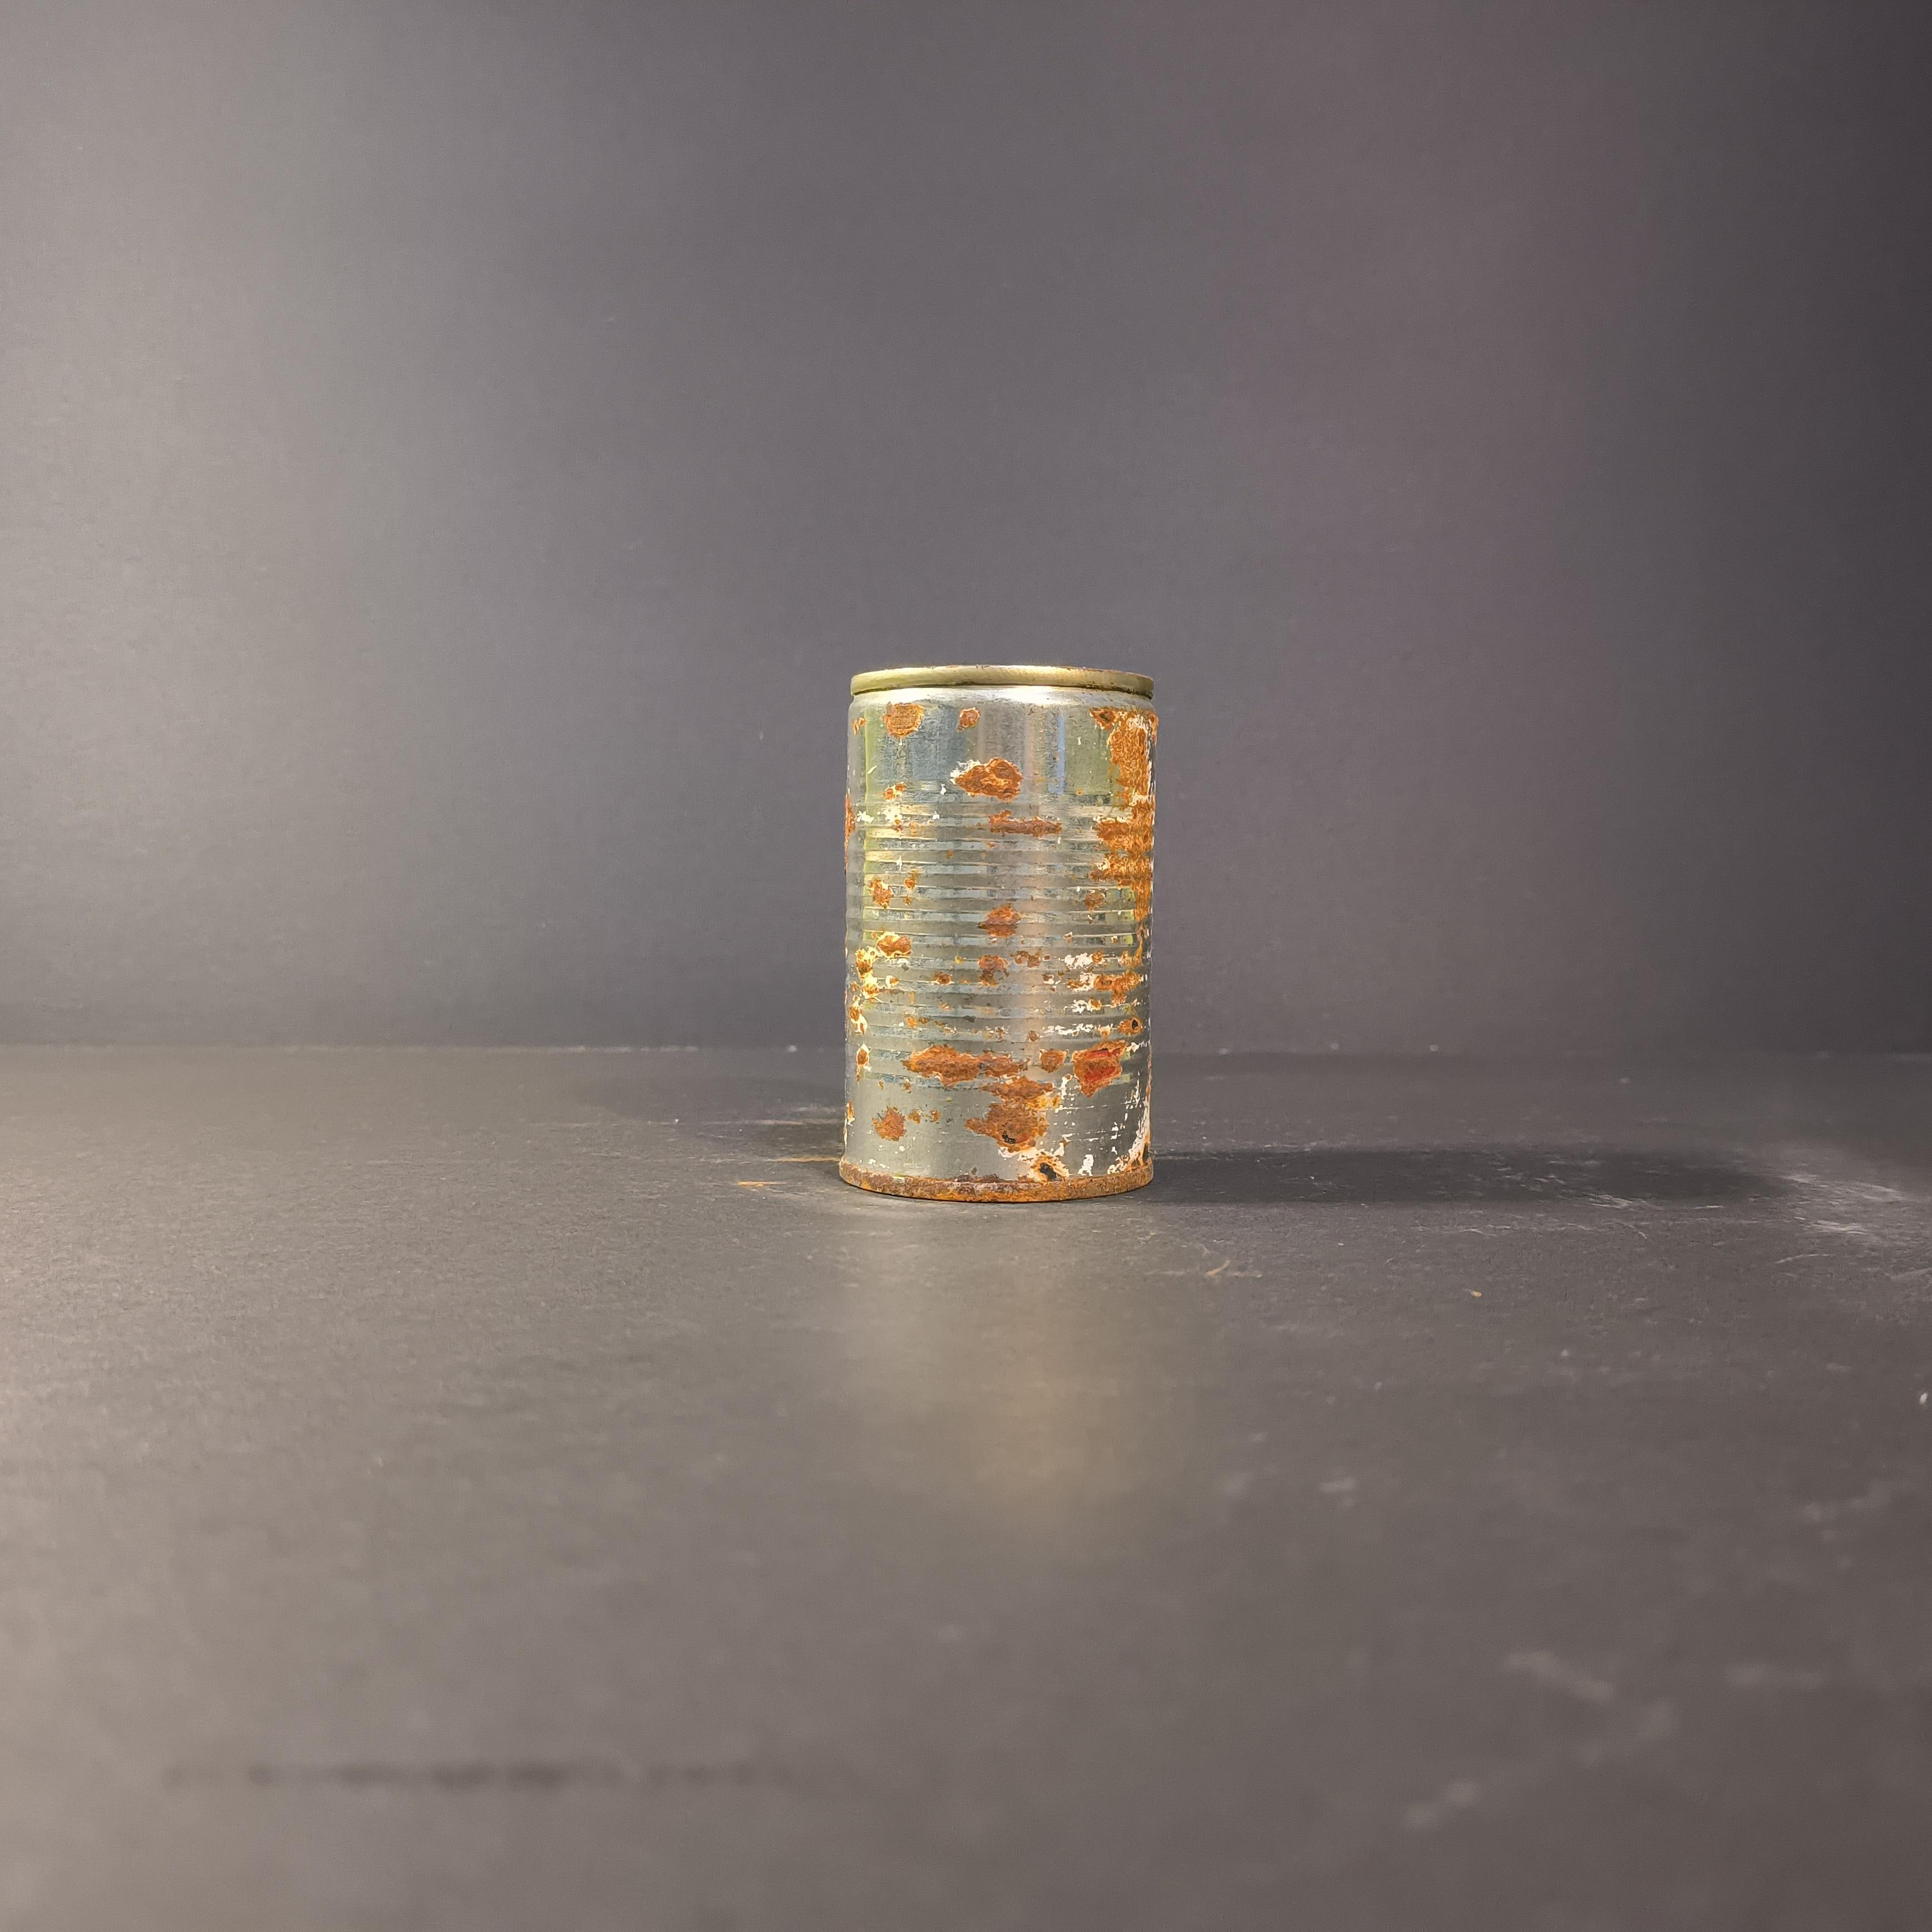Rusted: (826, 640, 1185, 1210)
